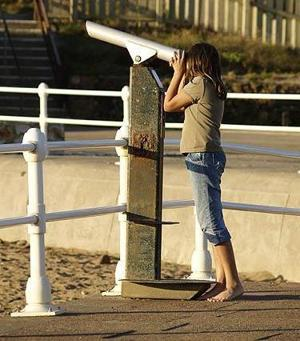person: (165, 42, 245, 304)
